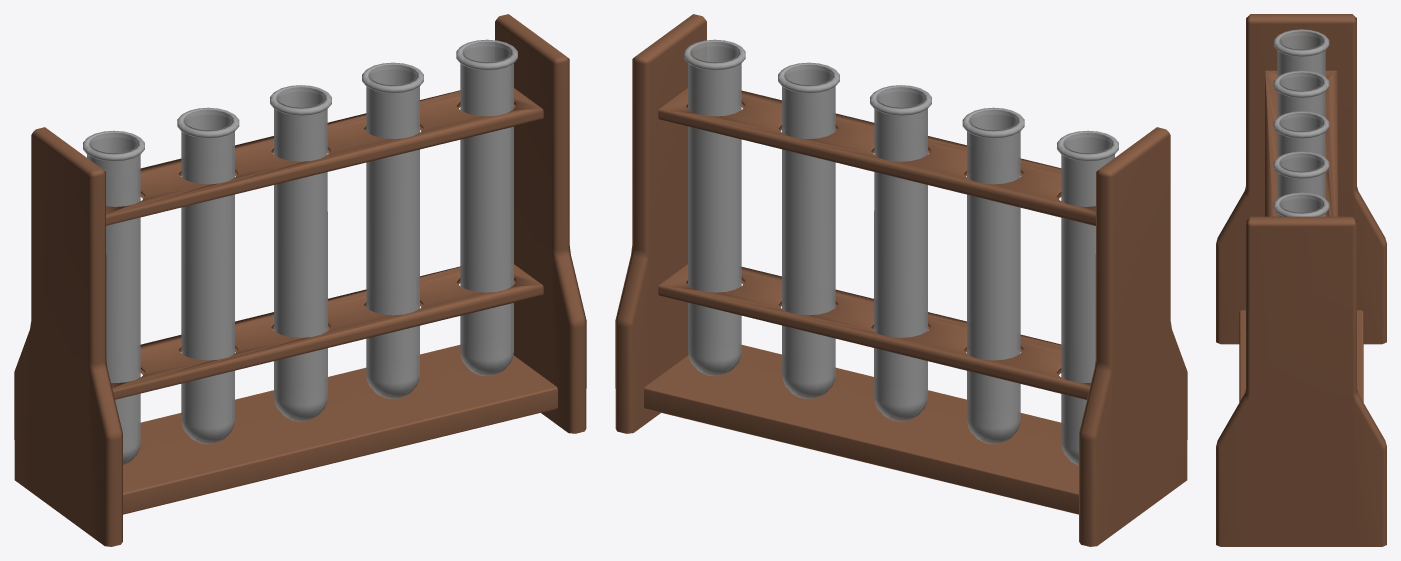
The model's file is Test_Tube_Rack.fbx.
3 views of the same model, side by side, from view 1: azimuth 30°, elevation 25°; view 2: azimuth 150°, elevation 25°; view 3: azimuth 270°, elevation 25° (orthographic). The views are drawn at different scales.
Parts seen in each view (by area): view 1: Test_Tube_Rack1; view 2: Test_Tube_Rack1; view 3: Test_Tube_Rack1.
Part boxes in pixels (x1,y1,x2,y2): Test_Tube_Rack1: (14,14,586,546); Test_Tube_Rack1: (615,14,1187,546); Test_Tube_Rack1: (1216,14,1386,546).
Bounding box in the file's own units: 45.12 × 32.4 × 15.46.
